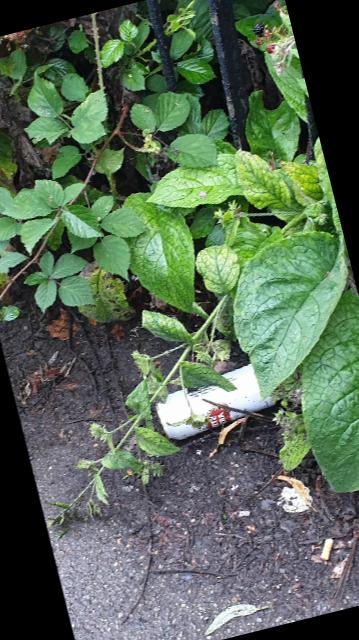metal: (154, 363, 273, 438)
